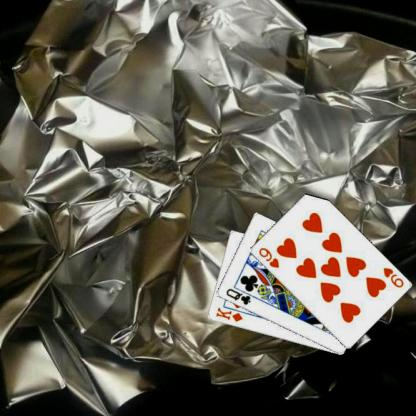9H: (255, 245, 280, 269), (380, 265, 405, 288)
KD: (213, 305, 244, 323)
QC: (223, 286, 252, 306)
